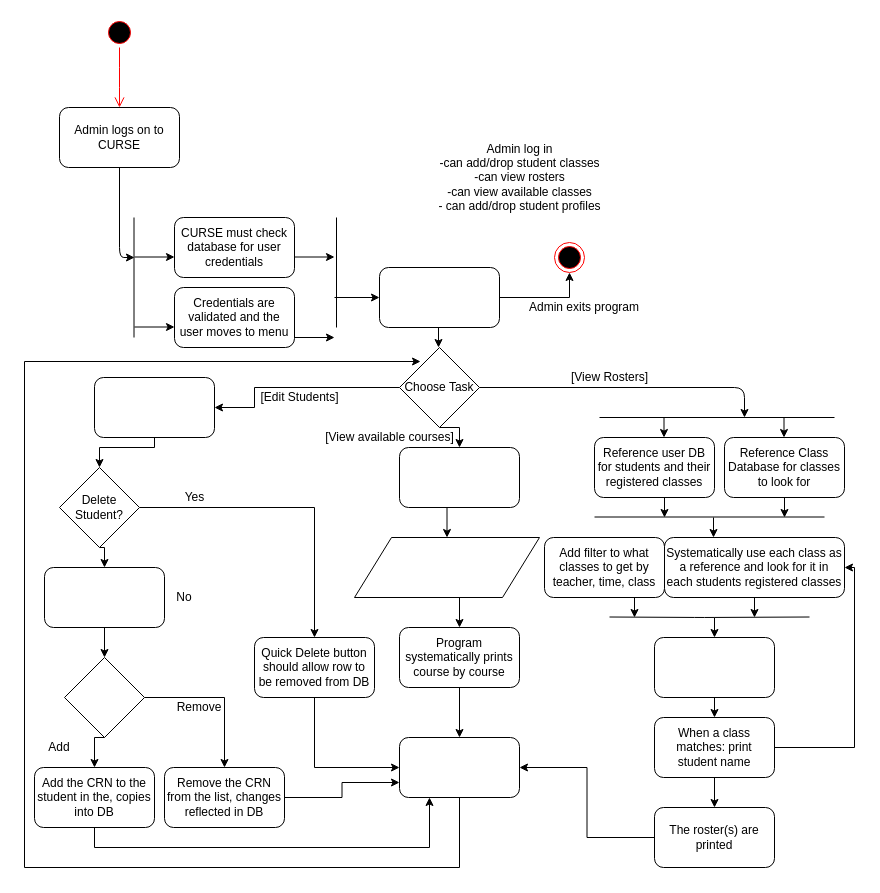
Some shapes in this 880 by 893 pixel diagram are drawn without their labels. The box of each missing label's shape, as (x1, y1, x2, y2) in pixels:
Apply filter for year, class, instructor, times: (354, 536, 540, 598)
Assume search is by student, reference Student DB for them: (94, 376, 214, 438)
Exit task: (398, 736, 520, 798)
Reference courses DB for all courses: (398, 446, 520, 508)
Select to add or remove a class, option available based on class list: (44, 566, 164, 628)
User arrives at menu: (378, 266, 500, 328)
When a new class is selected, print it as a header: (654, 636, 774, 698)
